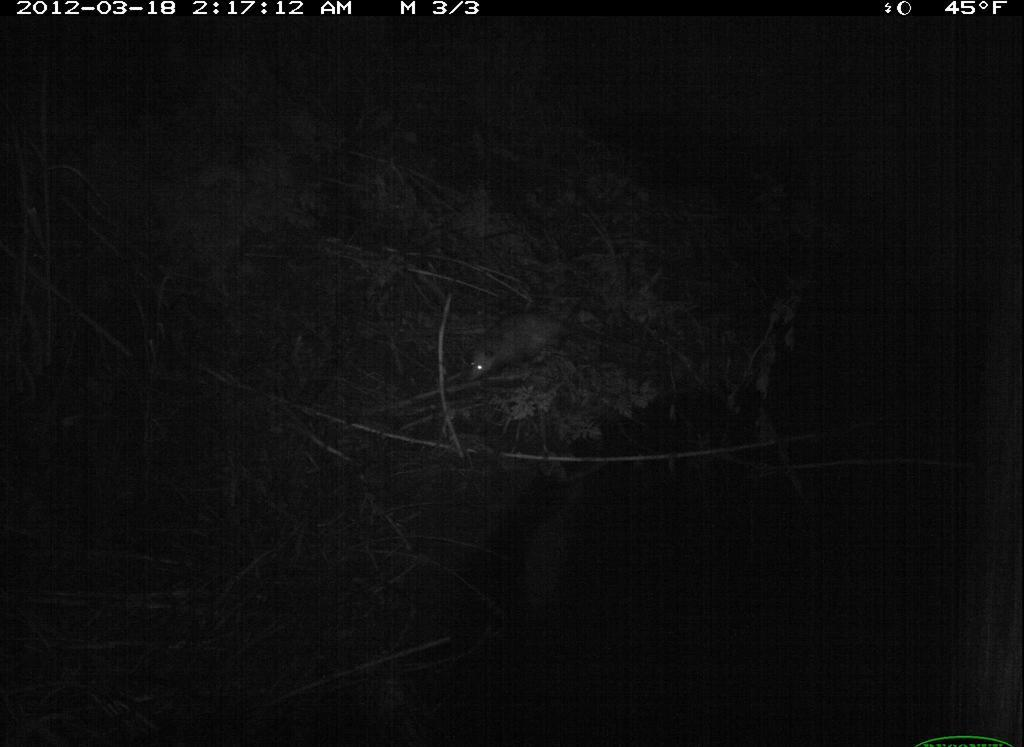opossum: (457, 308, 601, 390)
